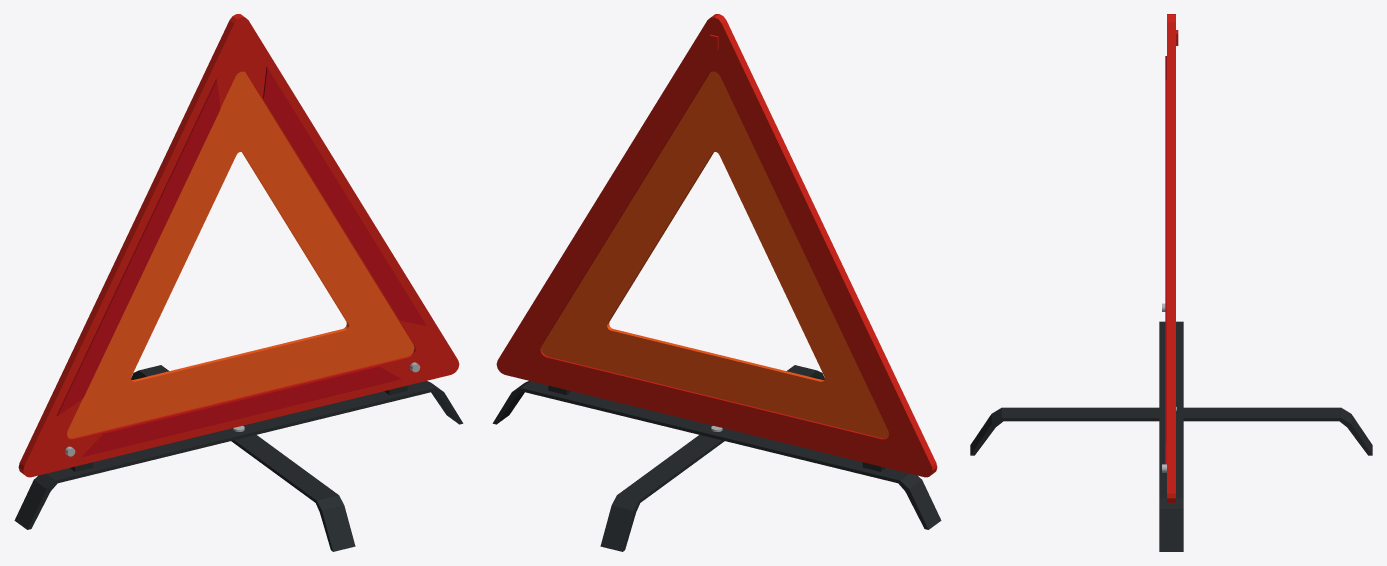
The picture shows the model from 3 angles, left to right: view 1: azimuth 30°, elevation 25°; view 2: azimuth 150°, elevation 25°; view 3: azimuth 270°, elevation 25°; orthographic projection. The views are drawn at different scales.
Parts seen in each view (by area): view 1: 05_Orange_three_span_open_ring, 04_Red_outer_strip_left, 01_Width_bent_metal_strip, 04_Red_outer_strip_right, 04_Red_outer_strip_bottom, 06_Plain_reflective_field_left, 06_Plain_reflective_field_bottom, 06_Plain_reflective_field_right, 02_Depth_bent_metal_strip; view 2: 05_Orange_three_span_open_ring, 04_Red_outer_strip_left, 04_Red_outer_strip_bottom, 04_Red_outer_strip_right, 01_Width_bent_metal_strip, 02_Depth_bent_metal_strip; view 3: 02_Depth_bent_metal_strip, 04_Red_outer_strip_right, 01_Width_bent_metal_strip, 06_Plain_reflective_field_right.
Boxes of the visible parts, left/top/right/bottom form: 05_Orange_three_span_open_ring: left=67, top=71, right=414, bottom=438; 04_Red_outer_strip_left: left=18, top=14, right=241, bottom=474; 01_Width_bent_metal_strip: left=14, top=381, right=463, bottom=529; 04_Red_outer_strip_right: left=237, top=14, right=459, bottom=368; 04_Red_outer_strip_bottom: left=22, top=352, right=457, bottom=477; 06_Plain_reflective_field_left: left=56, top=79, right=220, bottom=415; 06_Plain_reflective_field_bottom: left=82, top=366, right=401, bottom=456; 06_Plain_reflective_field_right: left=263, top=67, right=426, bottom=325; 02_Depth_bent_metal_strip: left=131, top=365, right=355, bottom=551; 05_Orange_three_span_open_ring: left=541, top=71, right=888, bottom=438; 04_Red_outer_strip_left: left=714, top=14, right=937, bottom=474; 04_Red_outer_strip_bottom: left=498, top=352, right=933, bottom=477; 04_Red_outer_strip_right: left=496, top=14, right=718, bottom=368; 01_Width_bent_metal_strip: left=492, top=381, right=941, bottom=529; 02_Depth_bent_metal_strip: left=600, top=365, right=824, bottom=551; 02_Depth_bent_metal_strip: left=970, top=407, right=1372, bottom=455; 04_Red_outer_strip_right: left=1167, top=14, right=1175, bottom=501; 01_Width_bent_metal_strip: left=1159, top=321, right=1183, bottom=551; 06_Plain_reflective_field_right: left=1165, top=79, right=1166, bottom=437.
Bounding box in the file's own units: 0.43 × 0.43 × 0.36.
